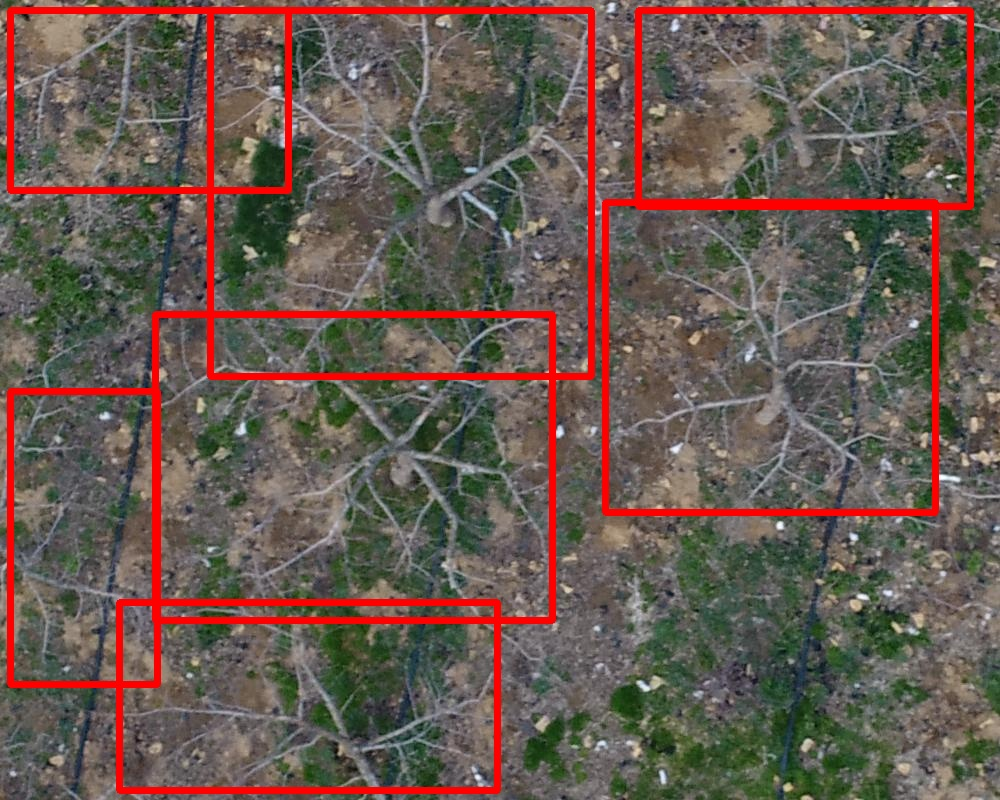apple: (210, 10, 591, 376), (155, 314, 552, 620), (605, 202, 935, 512), (119, 602, 497, 790), (638, 10, 970, 206), (10, 10, 288, 190), (10, 391, 157, 684)
